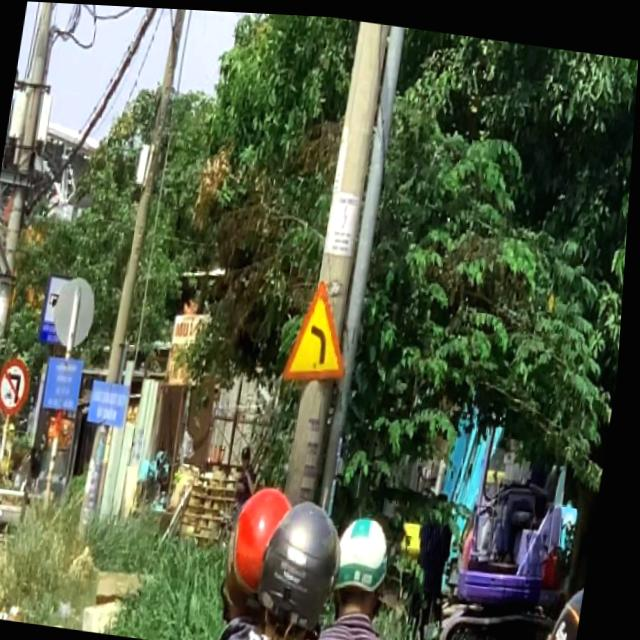cho ngoat nguy hiem vong ben trai: (282, 269, 366, 391)
